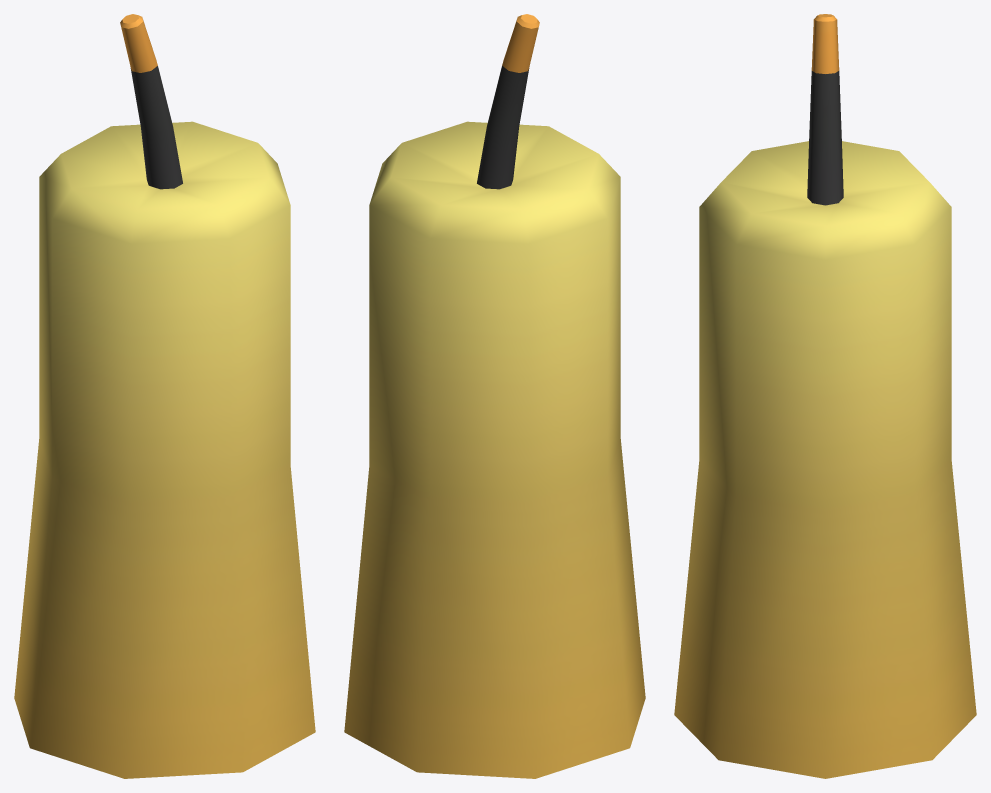
The model's file is Candle_1.obj.
3 views of the same model, side by side, from view 1: azimuth 30°, elevation 25°; view 2: azimuth 150°, elevation 25°; view 3: azimuth 270°, elevation 25° (orthographic). The views are drawn at different scales.
Parts seen in each view (by area): view 1: Candle_1; view 2: Candle_1; view 3: Candle_1.
Part boxes in pixels (<box>): Candle_1: <box>14,14,315,778</box>; Candle_1: <box>344,14,645,778</box>; Candle_1: <box>674,14,976,778</box>.
Size of the model in its own units: 0.0695 by 0.1737 by 0.0695.
